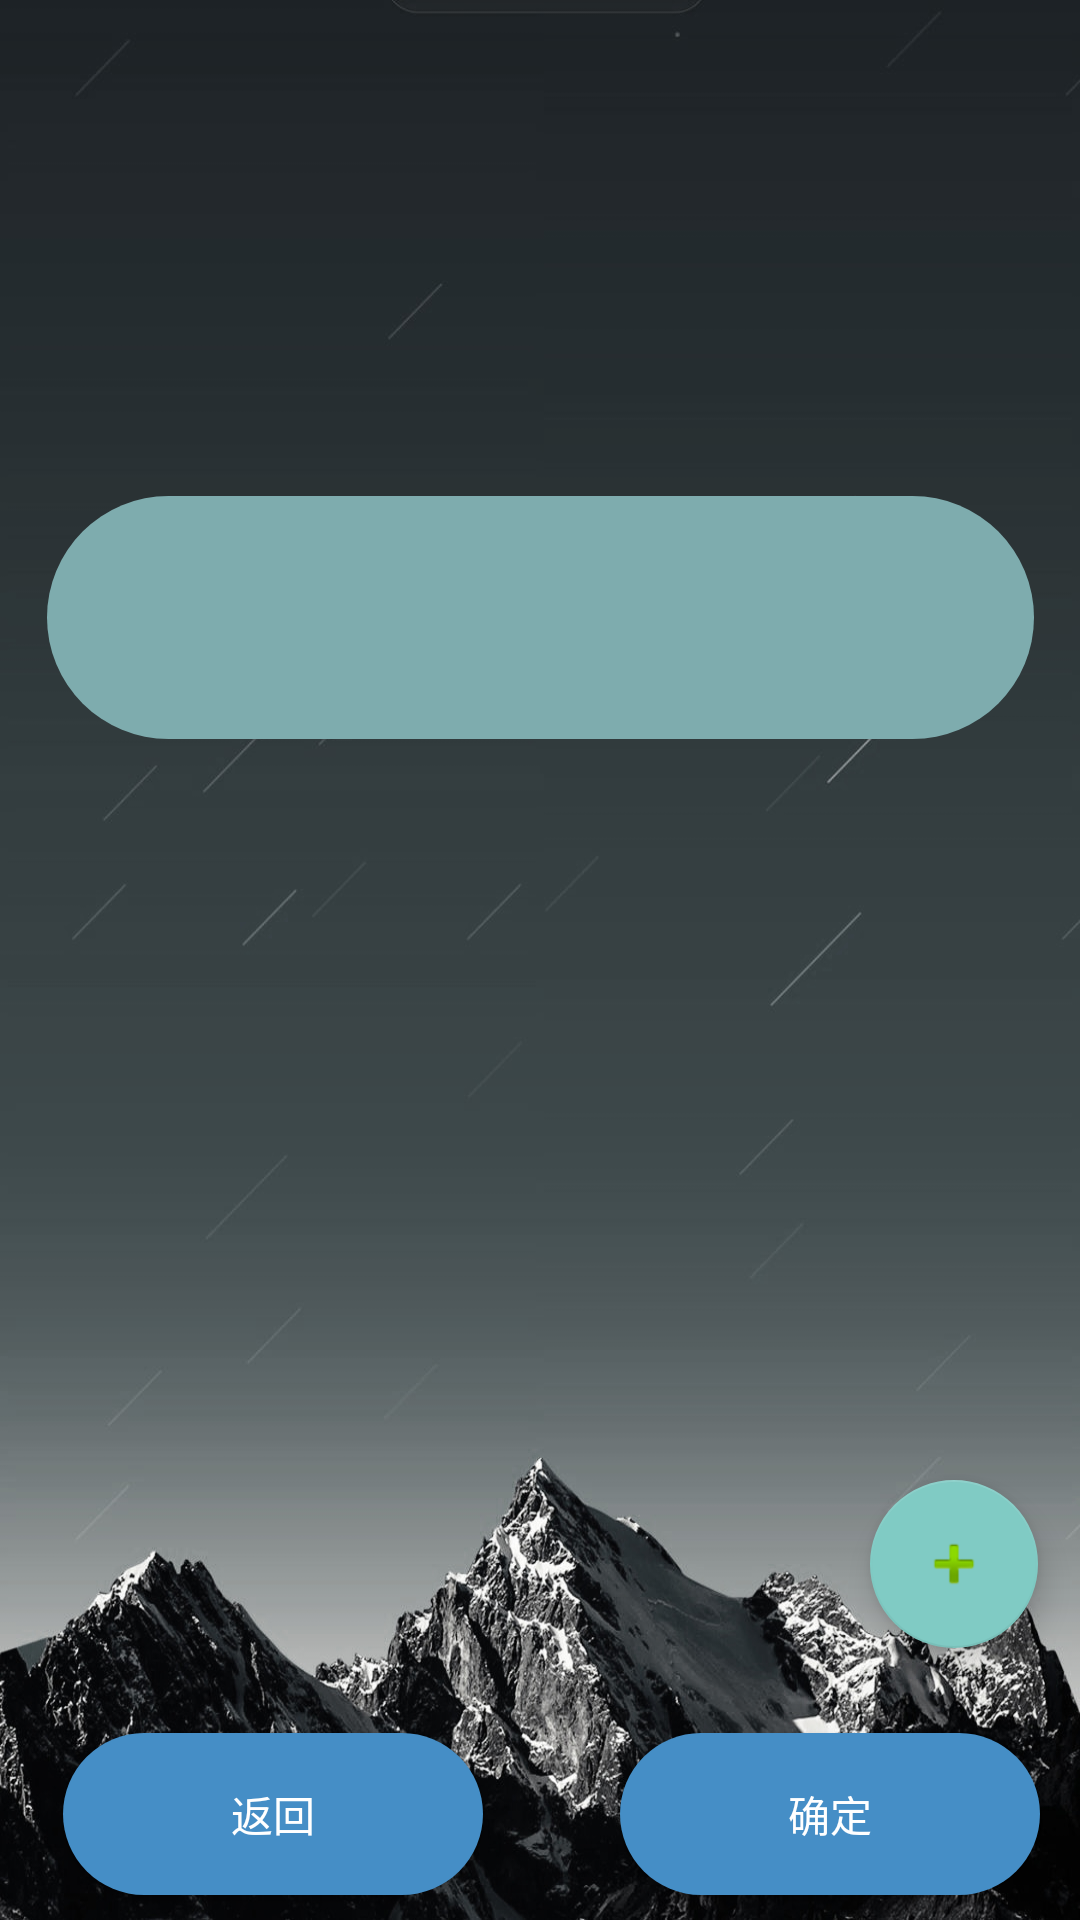

Named icons in this screenshot (1080×1920) and their centers, (x,y):
add: (954,1564)
